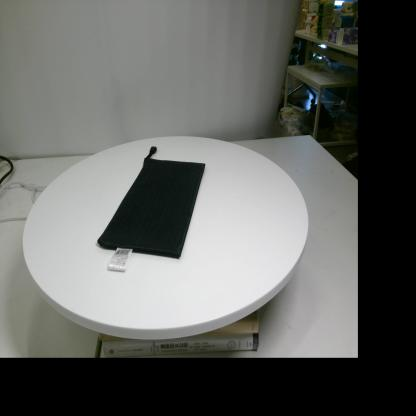Stationery: (97, 146, 206, 271)
